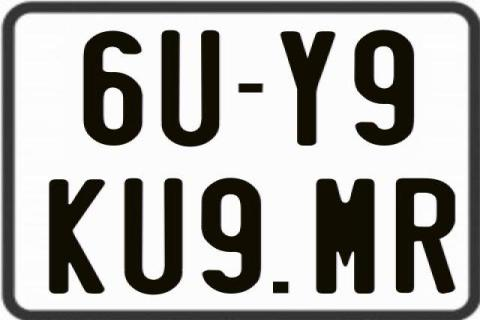0: (354, 28, 416, 148), (200, 176, 261, 296), (82, 30, 143, 148)
K: (50, 179, 110, 297)
M: (314, 177, 378, 292)
R: (393, 177, 455, 293)
U: (125, 179, 188, 299), (159, 30, 223, 148)
Y: (280, 31, 334, 148)
